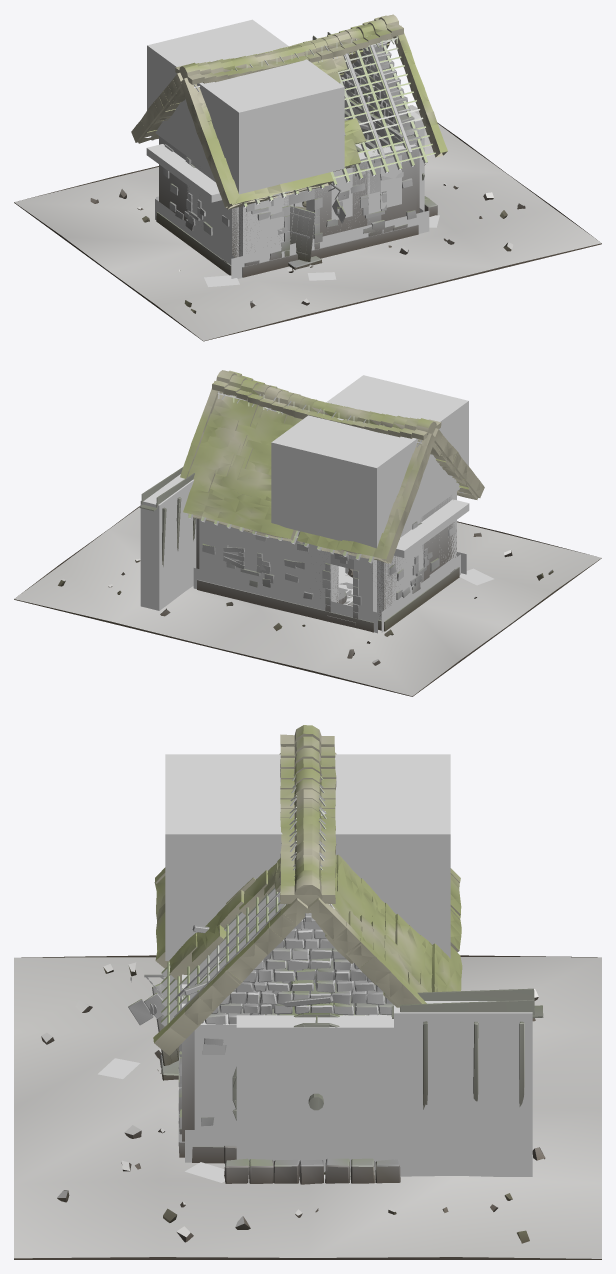
Rendered from bld_mill_shared.glb.
The picture shows the model from 3 angles, top to bottom: view 1: azimuth 30°, elevation 25°; view 2: azimuth 150°, elevation 25°; view 3: azimuth 270°, elevation 25°; orthographic projection. The views are drawn at different scales.
Visible parts, largest first — view 1: ground_mud, col_roof_W, roof_thatch_thatch, decals_mill, wall_S_stones, roof_thatch_rafters, wall_S, gable_E, wall_W_stones, col_wall_W_0, col_loft, col_wall_S_0 (+7 smaller); view 2: ground_mud, roof_thatch_thatch, col_roof_W, col_flume, col_wall_N_0, wall_N_stones, decals_mill, col_wall_W_0, wall_W_stones, wall_W, col_loft, flume (+2 smaller); view 3: ground_mud, col_roof_W, roof_thatch_thatch, col_wheel, col_flume, gable_E, wheel_pit, flume, col_wall_E_0, roof_thatch_rafters, decals_mill, rafters_bare (+5 smaller).
Boxes of the visible parts, bbox=[...] form: ground_mud: bbox=[14, 105, 601, 341]; col_roof_W: bbox=[147, 19, 344, 194]; roof_thatch_thatch: bbox=[131, 14, 447, 209]; decals_mill: bbox=[155, 155, 439, 286]; wall_S_stones: bbox=[242, 158, 418, 277]; roof_thatch_rafters: bbox=[150, 39, 435, 207]; wall_S: bbox=[239, 143, 416, 251]; gable_E: bbox=[341, 40, 421, 144]; wall_W_stones: bbox=[156, 144, 231, 275]; col_wall_W_0: bbox=[184, 155, 238, 257]; col_loft: bbox=[146, 144, 221, 202]; col_wall_S_0: bbox=[239, 191, 288, 256]; ground_mud: bbox=[14, 505, 601, 696]; roof_thatch_thatch: bbox=[180, 370, 484, 563]; col_roof_W: bbox=[271, 375, 468, 548]; col_flume: bbox=[140, 474, 196, 610]; col_wall_N_0: bbox=[199, 519, 338, 602]; wall_N_stones: bbox=[197, 531, 373, 632]; decals_mill: bbox=[192, 552, 493, 633]; col_wall_W_0: bbox=[377, 491, 456, 620]; wall_W_stones: bbox=[378, 499, 459, 631]; wall_W: bbox=[377, 495, 456, 616]; col_loft: bbox=[394, 499, 469, 557]; flume: bbox=[139, 467, 195, 566]; ground_mud: bbox=[14, 955, 601, 1259]; col_roof_W: bbox=[165, 754, 450, 960]; roof_thatch_thatch: bbox=[153, 725, 462, 1055]; col_wheel: bbox=[236, 1015, 393, 1172]; col_flume: bbox=[394, 1001, 532, 1176]; gable_E: bbox=[202, 917, 393, 1024]; wheel_pit: bbox=[224, 1145, 400, 1184]; flume: bbox=[391, 988, 543, 1109]; col_wall_E_0: bbox=[194, 1014, 236, 1129]; roof_thatch_rafters: bbox=[161, 887, 284, 1026]; decals_mill: bbox=[98, 1058, 325, 1182]; rafters_bare: bbox=[174, 891, 333, 1017].
Size of the model in its own units: 17 by 7.93 by 14.
